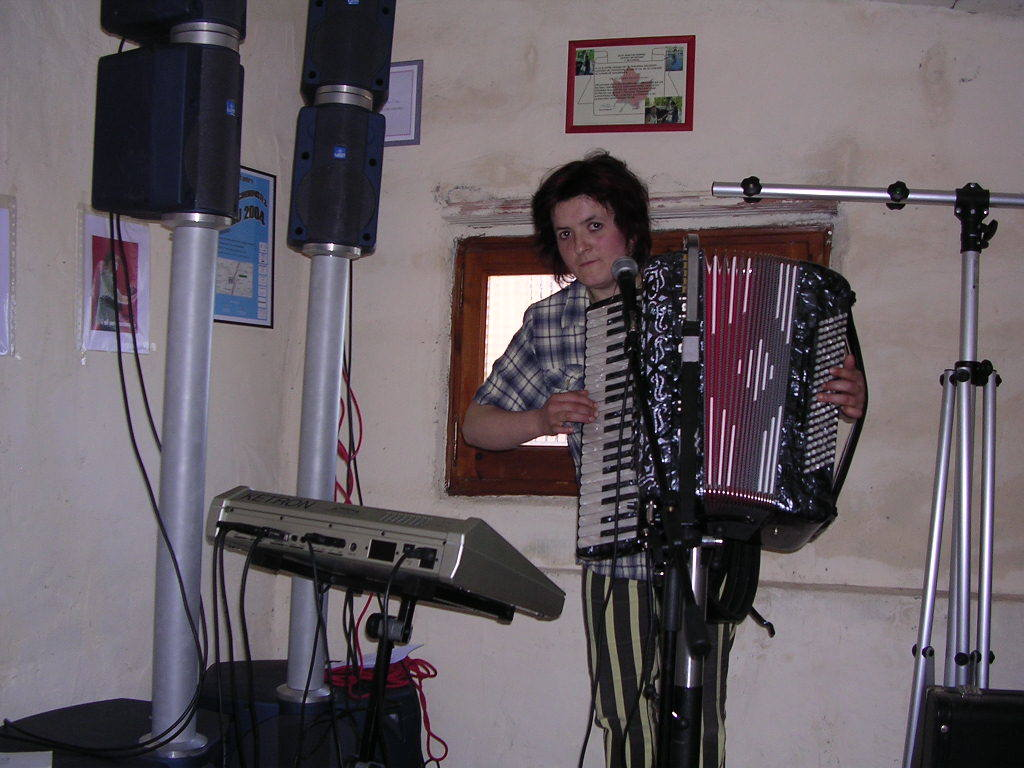Person: (460, 146, 865, 768)
